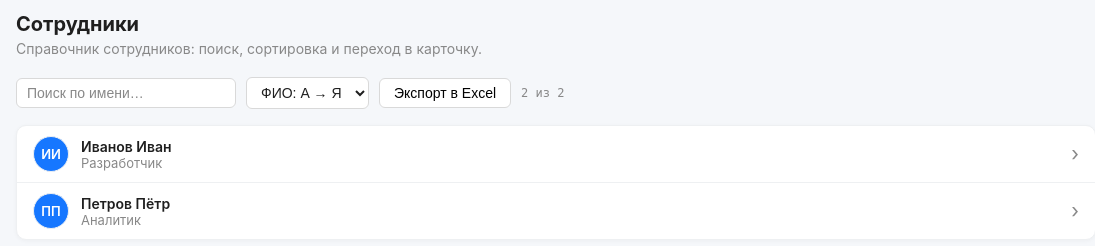
Scenario: EmployeesPage › фильтрует список по поисковой строке
Check: the text "Иванов Иван" is shown, box [81,138,172,154]
Type "Петр" into the field with placeholder "Поиск по имени…" at (126, 93), box [16,78,236,108]
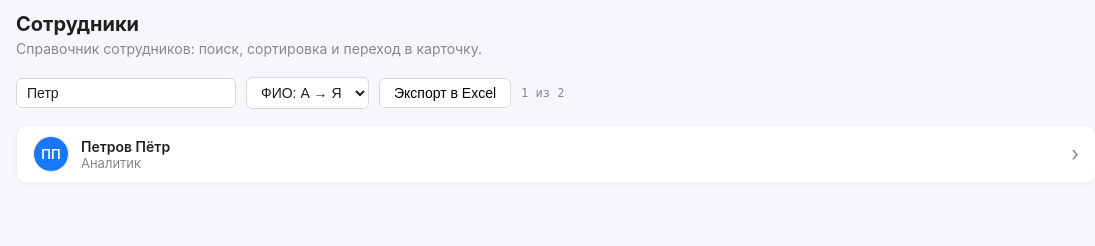
Check: the text "Петров Пётр" is shown, box [81,138,170,154]
Check: the text "Иванов Иван" is gone
